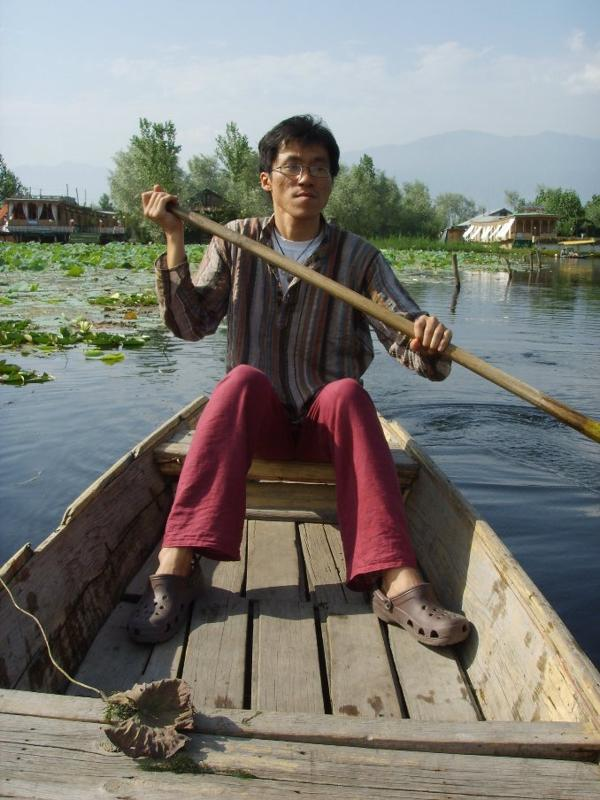person: (127, 114, 473, 654)
